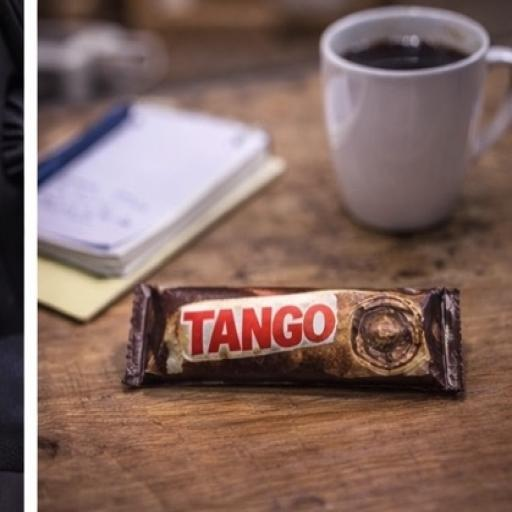tango: (105, 222, 495, 469)
